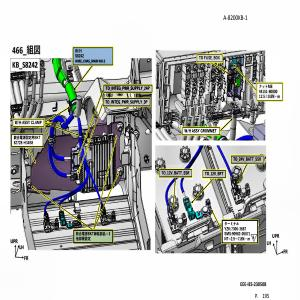PartNumber: (13, 140, 34, 146), (231, 230, 251, 236), (258, 88, 278, 94)
